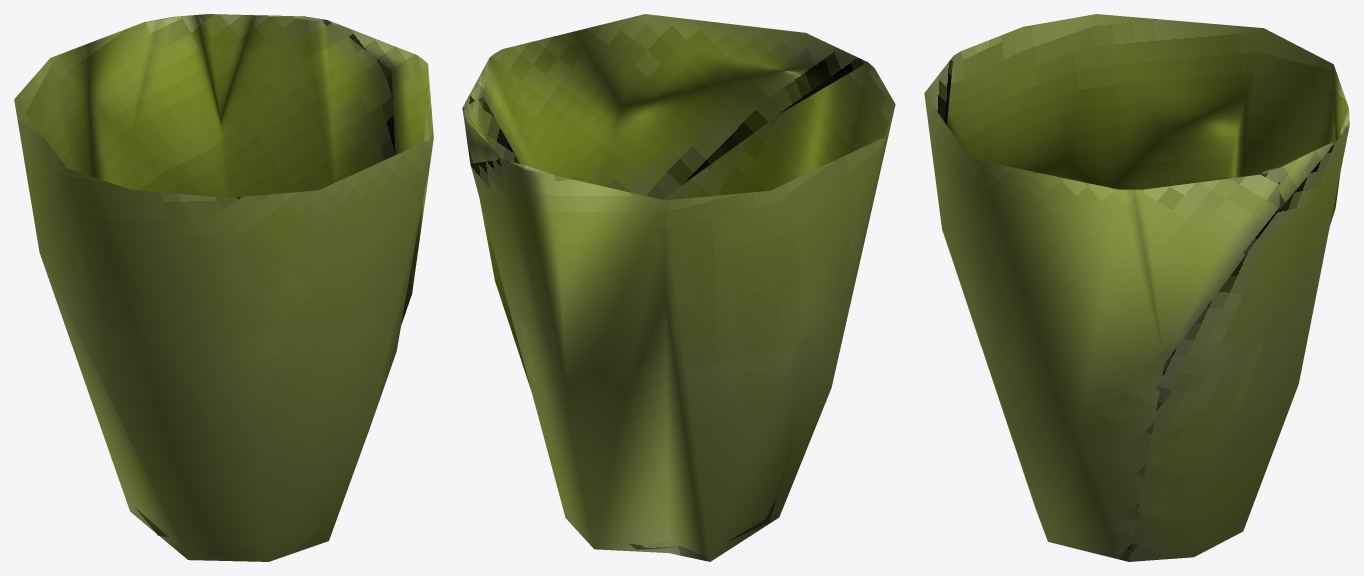
Rendered from Ecoforms_Plant_Container_Urn_55_Avocado-low.glb.
3 renders of one model, left to right at view 1: azimuth 30°, elevation 25°; view 2: azimuth 150°, elevation 25°; view 3: azimuth 270°, elevation 25°, orthographic.
Parts seen in each view (by area): view 1: Ecoforms_Plant_Container_Urn_55_Avocado; view 2: Ecoforms_Plant_Container_Urn_55_Avocado; view 3: Ecoforms_Plant_Container_Urn_55_Avocado.
Part boxes in pixels (x1,y1,x2,y2): Ecoforms_Plant_Container_Urn_55_Avocado: (14, 14, 433, 561); Ecoforms_Plant_Container_Urn_55_Avocado: (462, 14, 895, 561); Ecoforms_Plant_Container_Urn_55_Avocado: (924, 14, 1349, 561).
Size of the model in its own units: 0.1477 by 0.1589 by 0.1461.
1 material, 1 textured.
